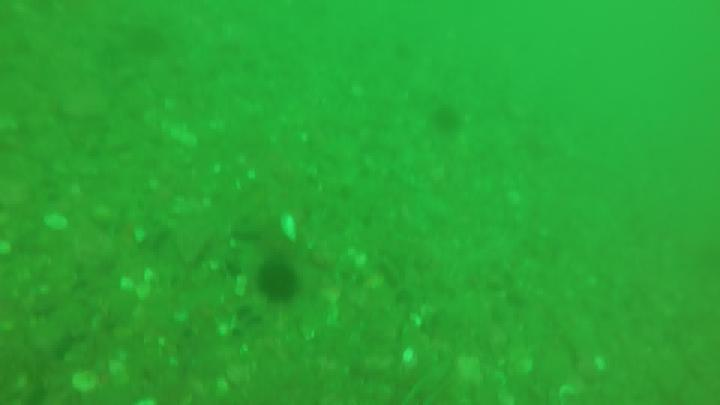echinus: (261, 261, 304, 302), (428, 105, 463, 128)
scallop: (281, 213, 297, 245), (75, 373, 101, 391), (45, 214, 70, 230)
